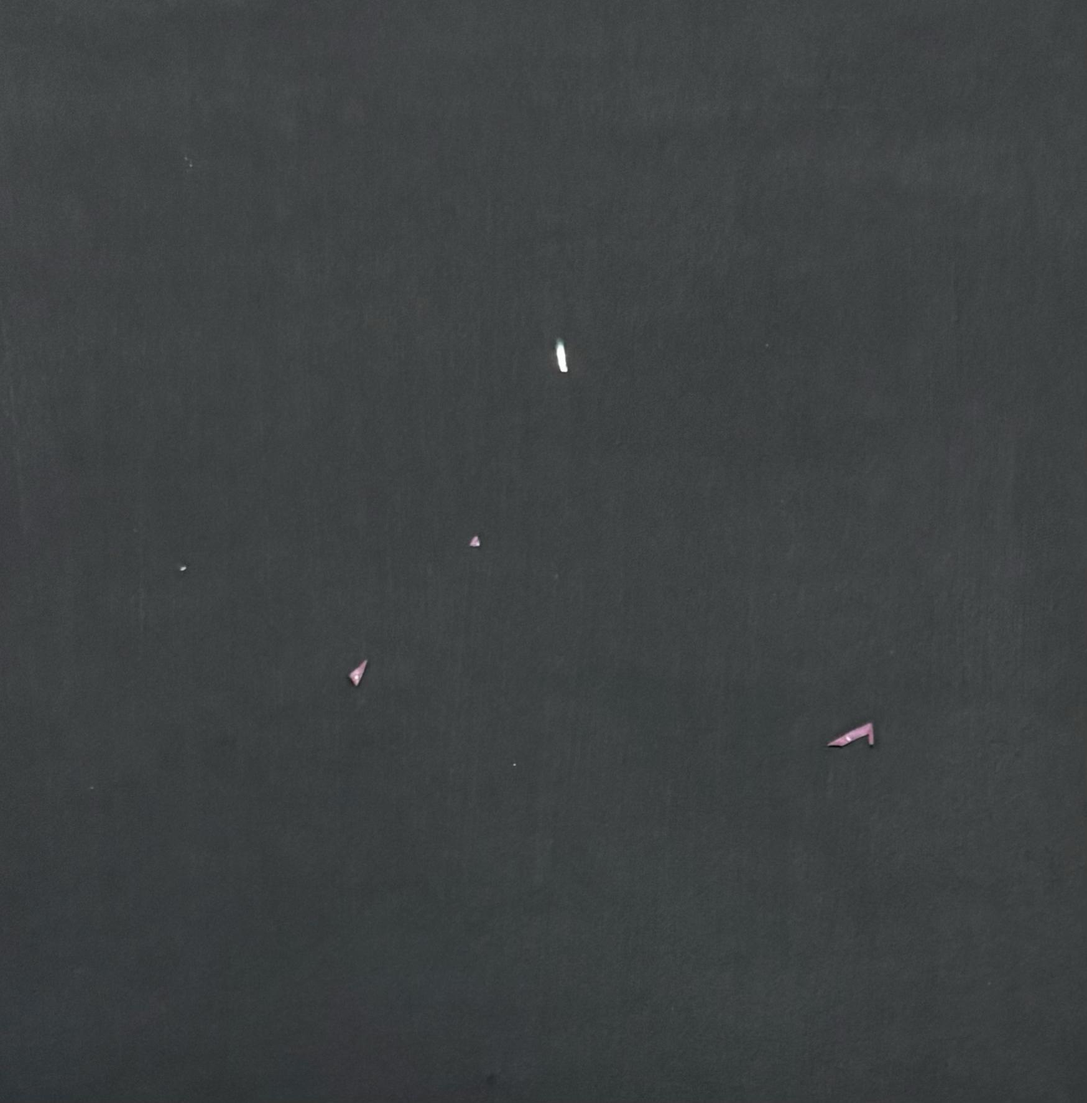Microplastic Particle: (827, 722, 874, 747), (346, 654, 372, 687), (555, 338, 568, 373), (469, 533, 481, 546), (179, 564, 187, 570), (512, 762, 515, 766)
